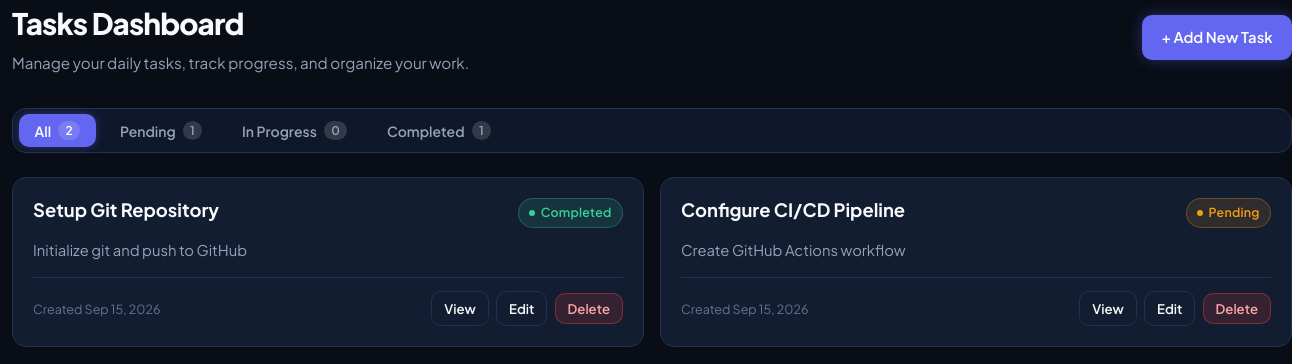
Test: DashboardPage Component › filters tasks when clicking status filter buttons
Expected: the link "Setup Git Repository" is shown, [33,198,219,223]
# Click 'Pending' filter
Click the tab "Pending 1" at (161, 131), box [104,114,218,147]
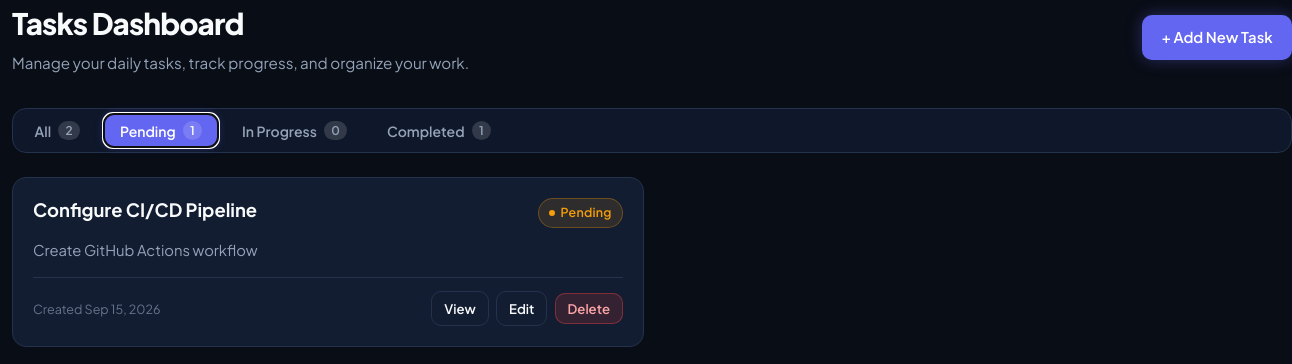
Expected: the link "Configure CI/CD Pipeline" is shown, [33,198,257,223]
Now the link "Setup Git Repository" is gone
